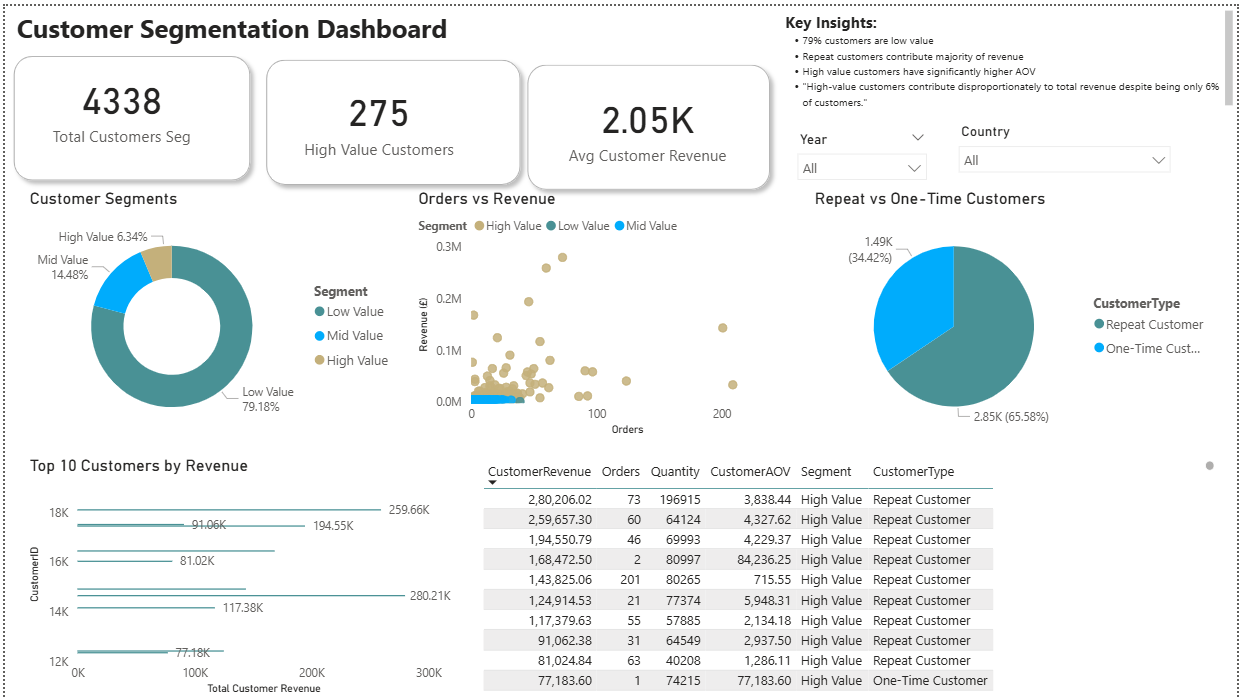

This screenshot's page, from the dashboard's own definition file:
{"tool":"powerbi","page":{"name":"Customer Insights","canvas":[1280,720],"ordinal":1},"visuals":[{"type":"shape","box":[0,43,263.8,147.5],"z":0,"group":"g3"},{"type":"shape","box":[261.7,47.1,282.3,148.1],"z":0,"group":"g1"},{"type":"shape","box":[534.2,51.9,270,148],"z":0,"group":"g2"},{"type":"donutChart","title":"Customer Segments","fields":{"Category":["CustomerSummary.Segment"],"Y":["CountNonNull(CustomerSummary.CustomerID)"]},"box":[20.8,189.5,391.3,267.8],"z":0},{"type":"card","fields":{"Values":["CustomerSummary.Total Customers Seg"]},"box":[35.4,58.8,173.2,94.3],"z":1000,"group":"g3"},{"type":"card","fields":{"Values":["CustomerSummary.High Value Customers"]},"box":[296.1,72.2,185.5,94.3],"z":1000,"group":"g1"},{"type":"card","fields":{"Values":["CustomerSummary.Avg Customer Revenue"]},"box":[579.4,78.3,177.5,94.6],"z":1000,"group":"g2"},{"type":"clusteredBarChart","title":"Top 10 Customers by Revenue","fields":{"Category":["CustomerSummary.CustomerID"],"Y":["CustomerSummary.Total Customer Revenue"]},"box":[20.8,467.1,461,253.1],"z":1000},{"type":"scatterChart","title":"Orders vs Revenue","fields":{"X":["Sum(CustomerSummary.Orders)"],"Y":["Sum(CustomerSummary.CustomerRevenue)"],"Series":["CustomerSummary.Segment"],"Category":["CustomerSummary.CustomerID"]},"box":[424.3,189.5,400,262],"z":2000},{"type":"tableEx","fields":{"Values":["CustomerSummary.CustomerRevenue","CustomerSummary.Orders","CustomerSummary.Quantity","CustomerSummary.CustomerAOV","CustomerSummary.Segment","CustomerSummary.CustomerType"]},"box":[490.4,467.1,770.4,253.1],"z":3000},{"type":"slicer","fields":{"Values":["DateTable.Year"]},"box":[812.7,125.3,154.4,57],"z":4000},{"type":"slicer","fields":{"Values":["online_retail_clean_csv.Country"]},"box":[981,116.5,240.5,62],"z":5000},{"type":"group","id":"g1","title":"Group 2","box":[261.7,47.1,282.3,148.1],"z":6000},{"type":"group","id":"g2","title":"Group 2","box":[534.2,51.9,270.9,148.1],"z":7000},{"type":"group","id":"g3","title":"Group 2","box":[0,43,264.6,148.1],"z":8000},{"type":"pieChart","title":"Repeat vs One-Time Customers","fields":{"Category":["CustomerSummary.CustomerType"],"Y":["CountNonNull(CustomerSummary.CustomerID)"]},"box":[836.4,189.5,424.3,267.8],"z":9000},{"type":"textbox","box":[0,0,701.3,51.9],"z":10000},{"type":"textbox","box":[805,0,475,118.3],"z":11000}]}

Visuals, with their boxes in screenshot pixels (x1, y1, x2, y2), scaled from the page's 1280x720 canvas onto the 1240x699 screenshot:
shape: pyautogui.locateOnScreen(0, 42, 256, 185)
shape: pyautogui.locateOnScreen(254, 46, 527, 190)
shape: pyautogui.locateOnScreen(518, 50, 779, 194)
"Customer Segments" donutChart: pyautogui.locateOnScreen(20, 184, 399, 444)
card - CustomerSummary.Total Customers Seg: pyautogui.locateOnScreen(34, 57, 202, 149)
card - CustomerSummary.High Value Customers: pyautogui.locateOnScreen(287, 70, 467, 162)
card - CustomerSummary.Avg Customer Revenue: pyautogui.locateOnScreen(561, 76, 733, 168)
"Top 10 Customers by Revenue" clusteredBarChart: pyautogui.locateOnScreen(20, 453, 467, 698)
"Orders vs Revenue" scatterChart: pyautogui.locateOnScreen(411, 184, 799, 438)
tableEx - CustomerSummary.CustomerRevenue x CustomerSummary.Orders: pyautogui.locateOnScreen(475, 453, 1221, 698)
slicer - DateTable.Year: pyautogui.locateOnScreen(787, 122, 937, 177)
slicer - online_retail_clean_csv.Country: pyautogui.locateOnScreen(950, 113, 1183, 173)
"Group 2" group: pyautogui.locateOnScreen(254, 46, 527, 190)
"Group 2" group: pyautogui.locateOnScreen(518, 50, 780, 194)
"Group 2" group: pyautogui.locateOnScreen(0, 42, 256, 186)
"Repeat vs One-Time Customers" pieChart: pyautogui.locateOnScreen(810, 184, 1221, 444)
textbox: pyautogui.locateOnScreen(0, 0, 679, 50)
textbox: pyautogui.locateOnScreen(780, 0, 1239, 115)
